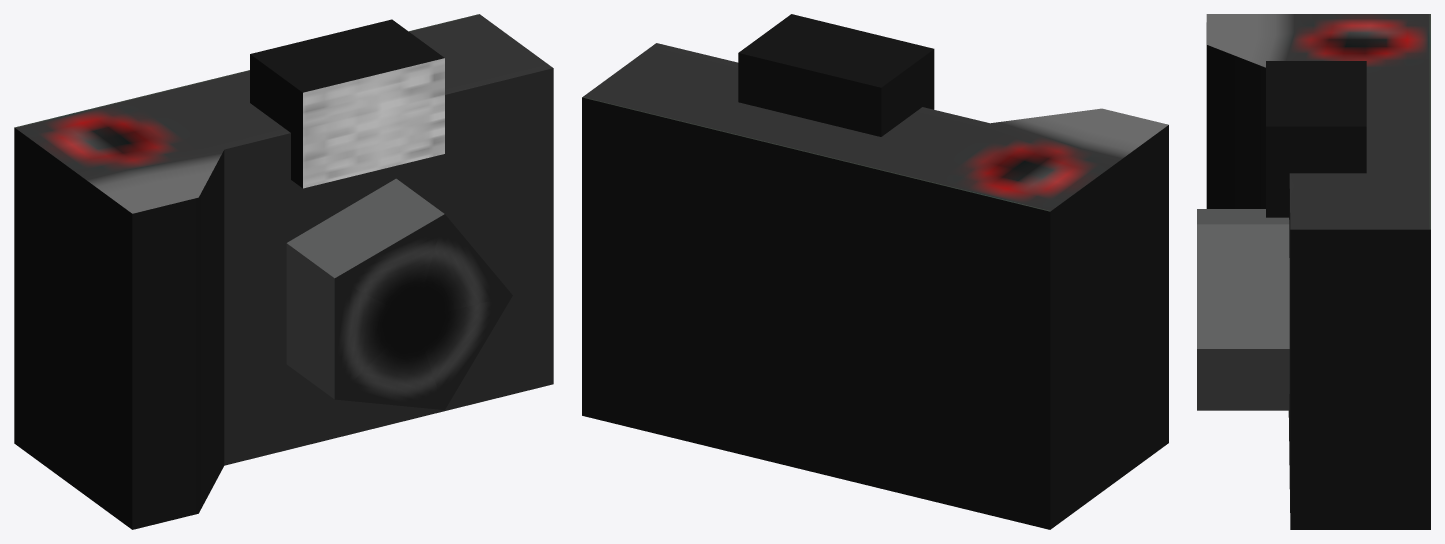
Rendered from Camera.fbx.
3 renders of one model, left to right at view 1: azimuth 30°, elevation 25°; view 2: azimuth 150°, elevation 25°; view 3: azimuth 270°, elevation 25°, orthographic. The views are drawn at different scales.
Parts seen in each view (by area): view 1: Maya_File_Assets:TexturedAssetsCurrent:Assets:camera_01; view 2: Maya_File_Assets:TexturedAssetsCurrent:Assets:camera_01; view 3: Maya_File_Assets:TexturedAssetsCurrent:Assets:camera_01.
Boxes of the visible parts, bbox=[...] form: Maya_File_Assets:TexturedAssetsCurrent:Assets:camera_01: bbox=[14, 14, 553, 529]; Maya_File_Assets:TexturedAssetsCurrent:Assets:camera_01: bbox=[582, 14, 1168, 529]; Maya_File_Assets:TexturedAssetsCurrent:Assets:camera_01: bbox=[1197, 14, 1430, 529].
Bounding box in the file's own units: 0.1456 × 0.1092 × 0.0667.
